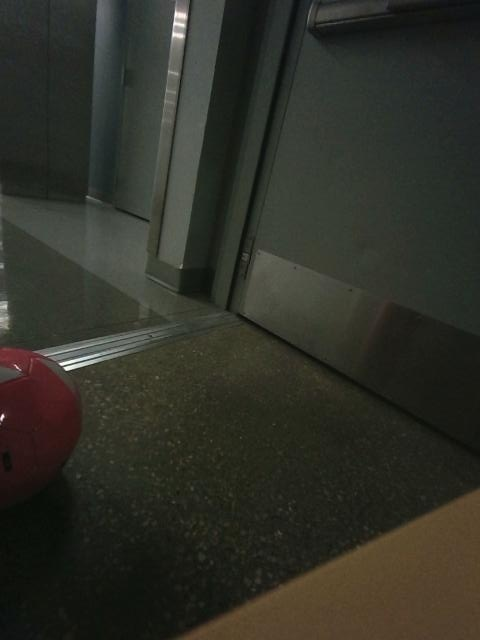ball: (0, 347, 81, 507)
